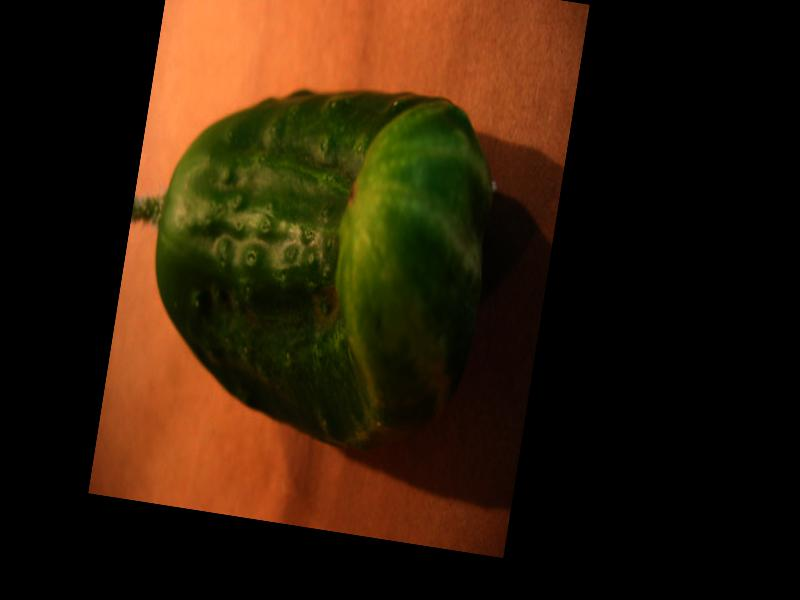Cucumber: (128, 54, 509, 460)
